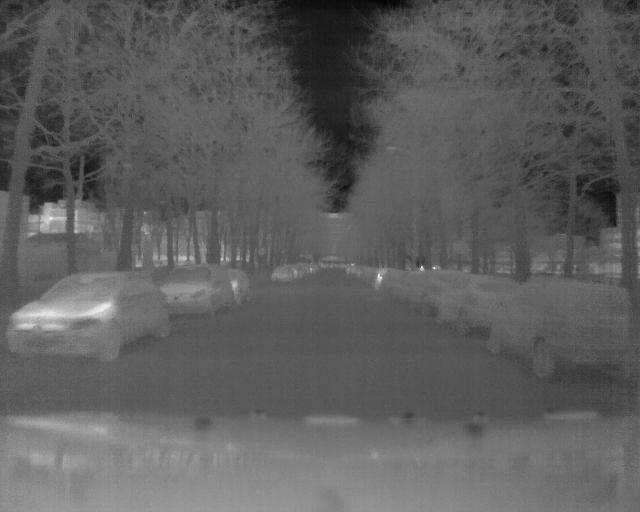car: (486, 273, 634, 385), (7, 269, 174, 366), (431, 272, 526, 337), (156, 261, 238, 320), (394, 269, 462, 314), (272, 264, 295, 286)
